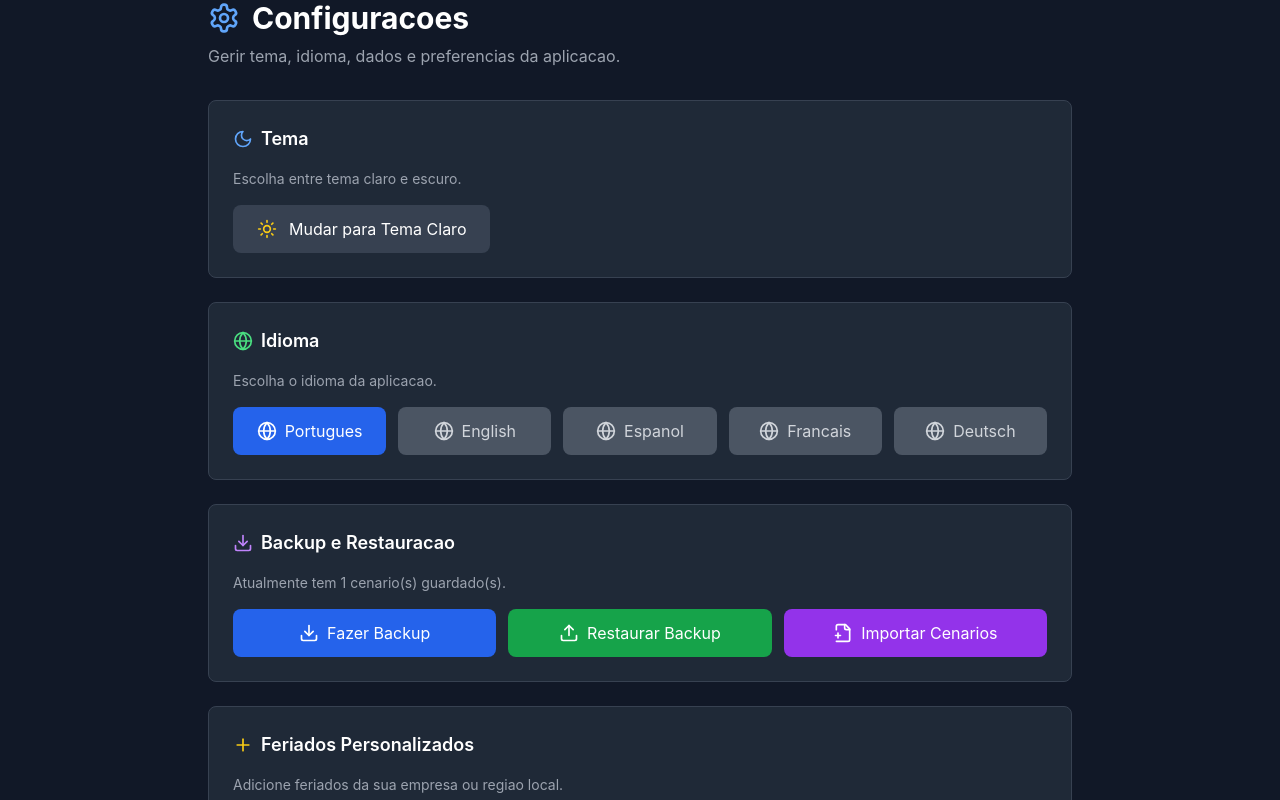
Scenario: SettingsPage › should switch theme when clicking toggle
Click the button "Mudar para Tema Claro". click: (362, 229)
box: [233,205,490,253]
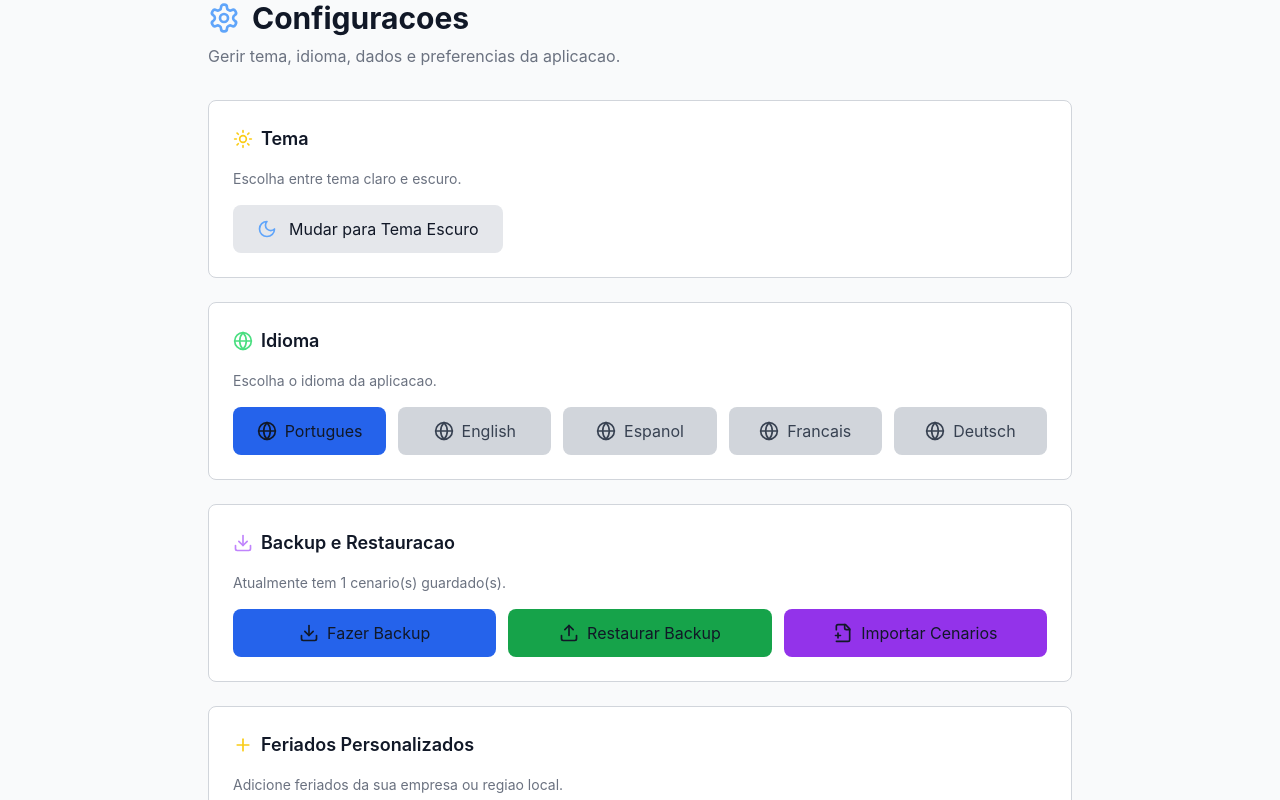
Expected: the button "Mudar para Tema Escuro" is shown, [233,205,503,253]
